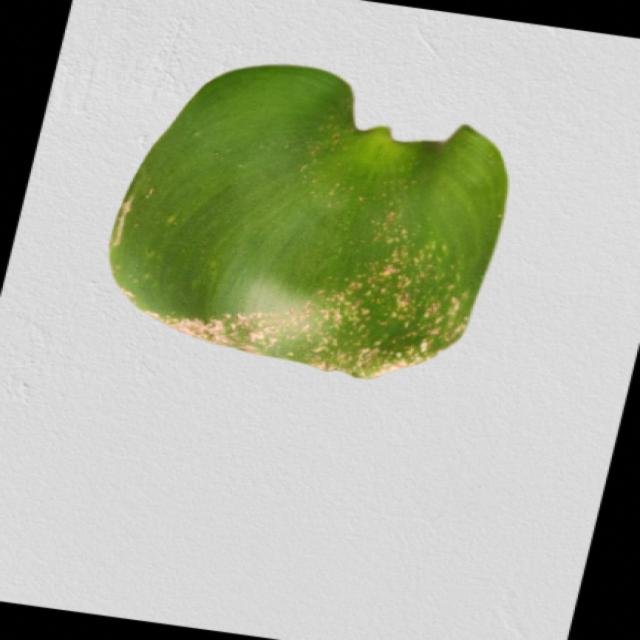daun berpenyakit bercak: (112, 65, 508, 378)
